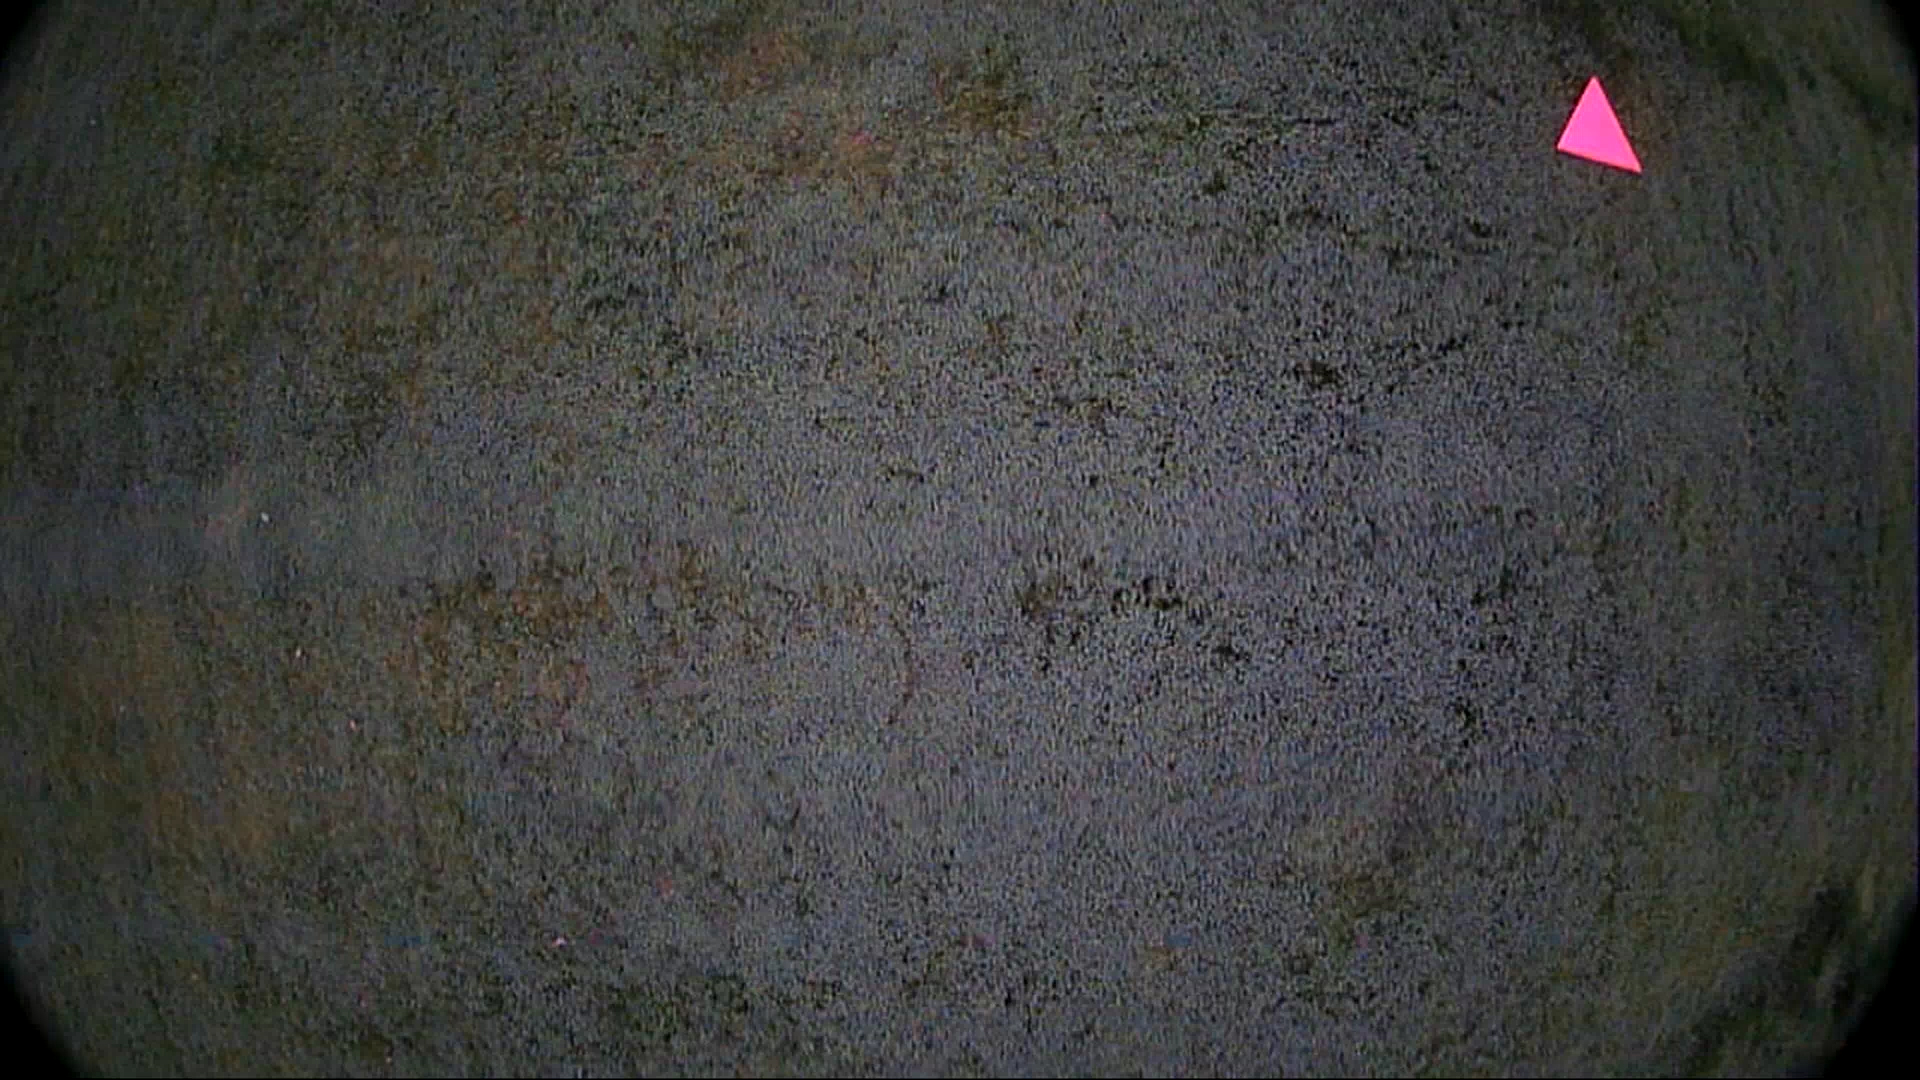triangle: (1552, 70, 1648, 182)
